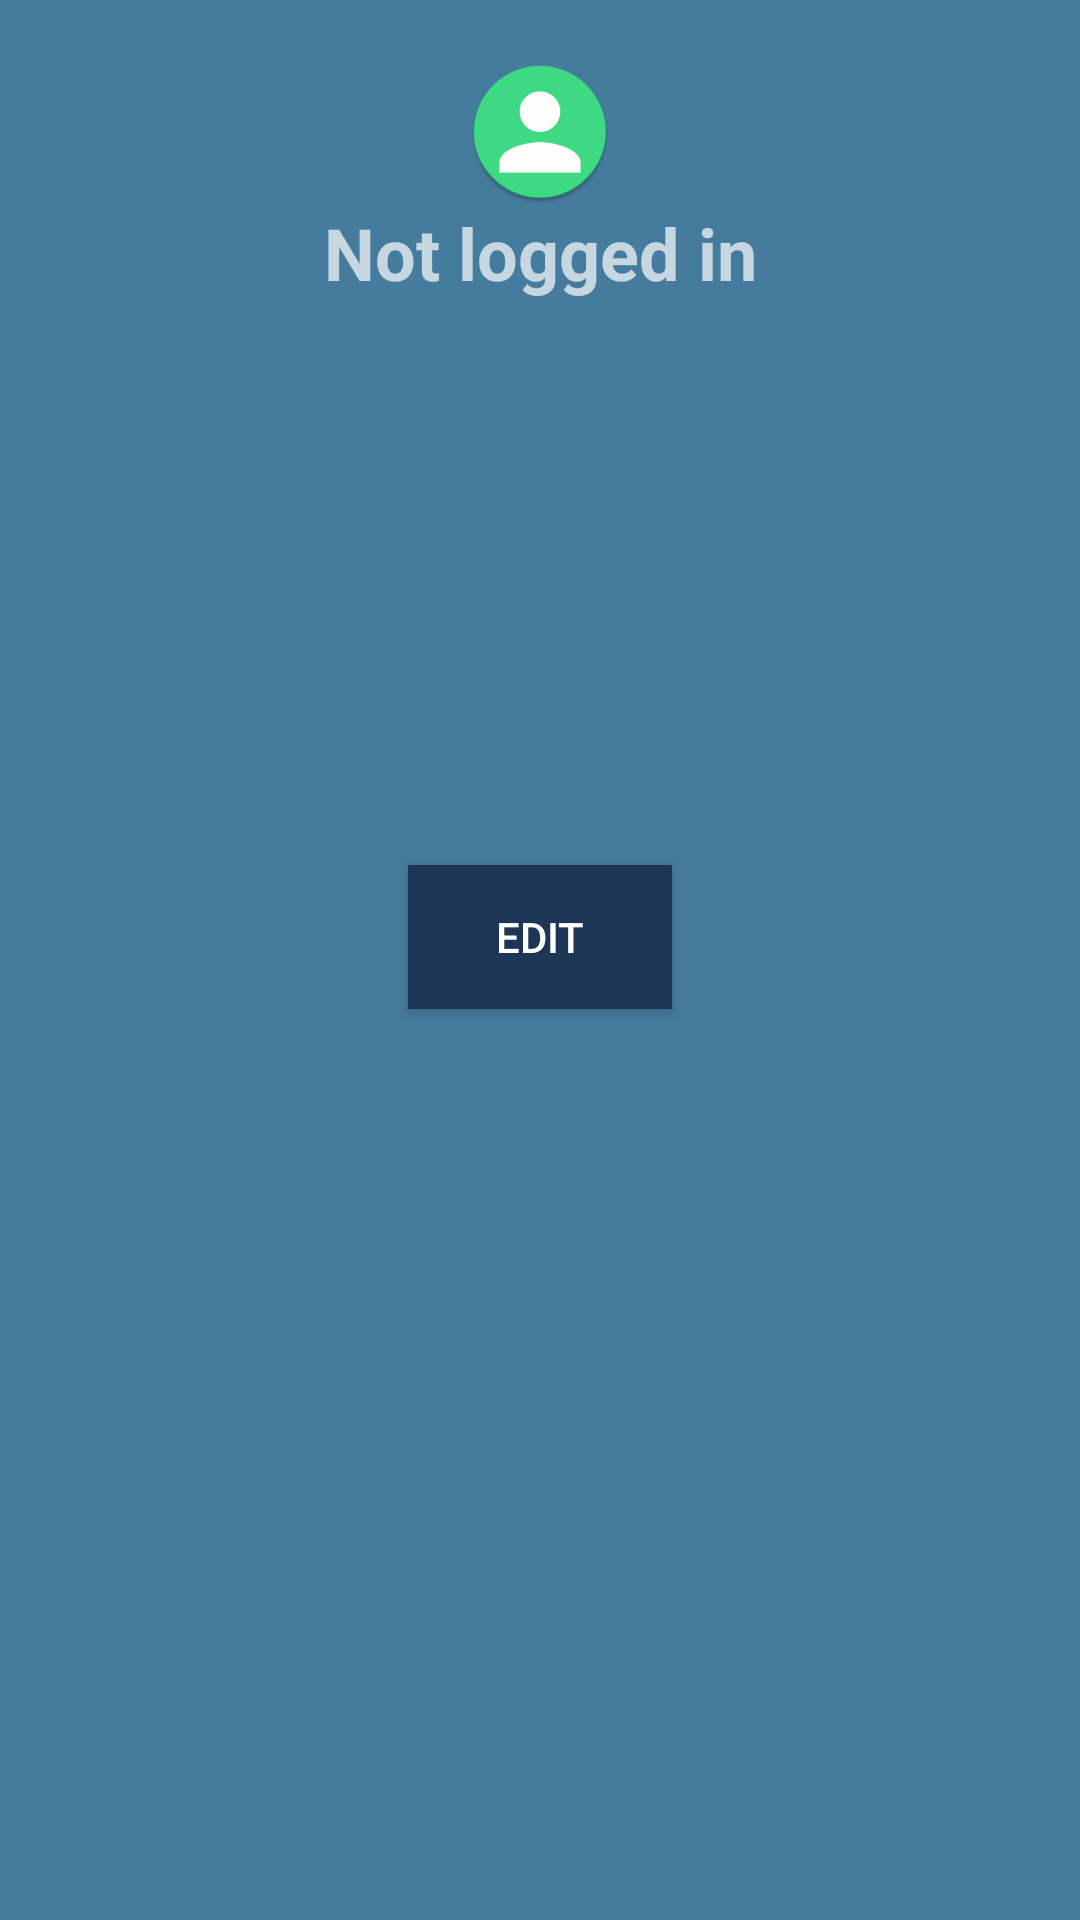

Where icons sit on this 1080 x 1920 app screen, as region(x1, y1, x2, y2):
Profile Picture: region(474, 66, 606, 201)
